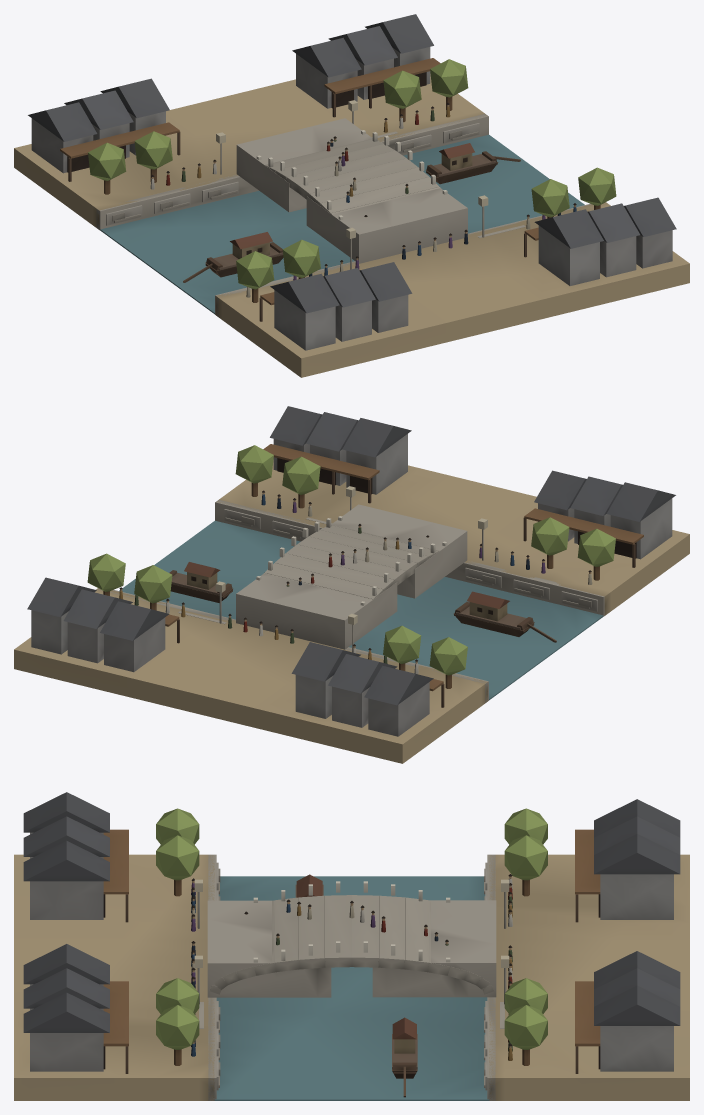
File: zhouqiao-ming.glb
The picture shows the model from 3 angles, top to bottom: view 1: azimuth 30°, elevation 25°; view 2: azimuth 150°, elevation 25°; view 3: azimuth 270°, elevation 25°; orthographic projection. The views are drawn at different scales.
Visible parts, largest first — view 1: p0_banks, p2_houses, p1_bridge; view 2: p0_banks, p2_houses, p1_bridge; view 3: p0_banks, p2_houses, p1_bridge.
Boxes of the visible parts, <box> form: p0_banks: <box>14,74,689,377</box>; p2_houses: <box>28,14,676,350</box>; p1_bridge: <box>236,118,525,263</box>; p0_banks: <box>14,460,689,763</box>; p2_houses: <box>27,406,675,736</box>; p1_bridge: <box>178,504,467,649</box>; p0_banks: <box>14,854,689,1100</box>; p2_houses: <box>23,792,680,1097</box>; p1_bridge: <box>199,895,504,1028</box>.
Size of the model in its own units: 50.03 by 9.54 by 64.
